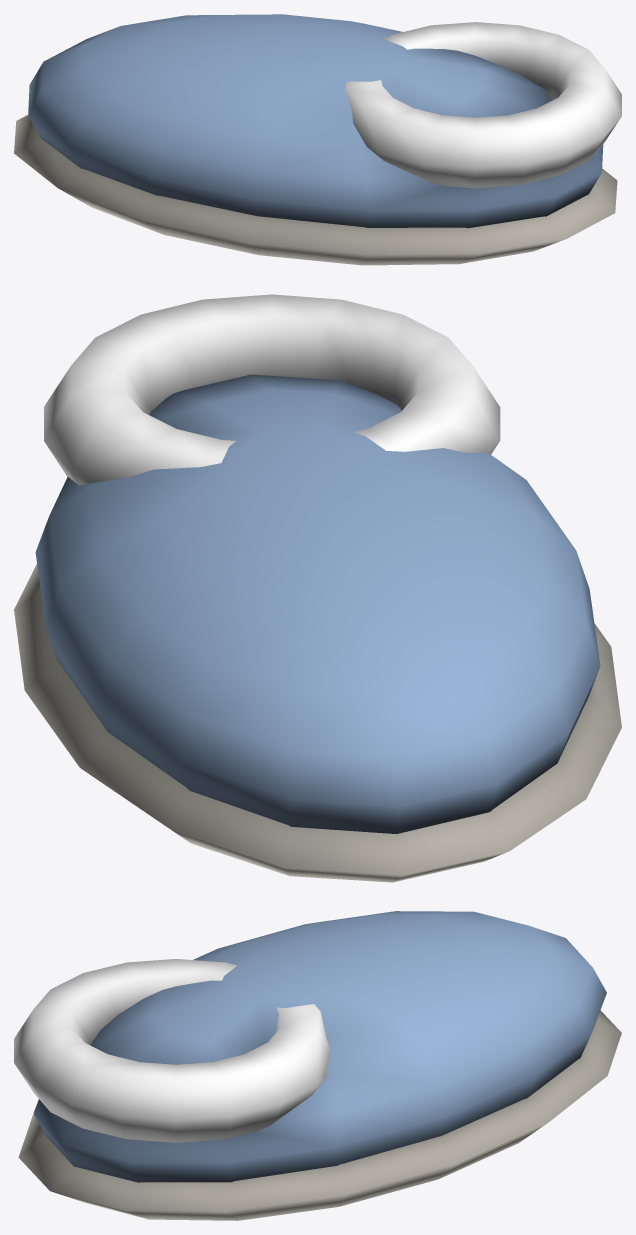
Rendered from elvis_feet.fbx.
3 renders of one model, top to bottom at view 1: azimuth 30°, elevation 25°; view 2: azimuth 150°, elevation 25°; view 3: azimuth 270°, elevation 25°, orthographic. The views are drawn at different scales.
Parts seen in each view (by area): view 1: elvis_feet; view 2: elvis_feet; view 3: elvis_feet.
Part boxes in pixels (x1,y1,x2,y2): elvis_feet: (14, 14, 621, 265); elvis_feet: (14, 294, 621, 882); elvis_feet: (14, 911, 621, 1220).
Size of the model in its own units: 0.7151 by 0.257 by 0.7756.
